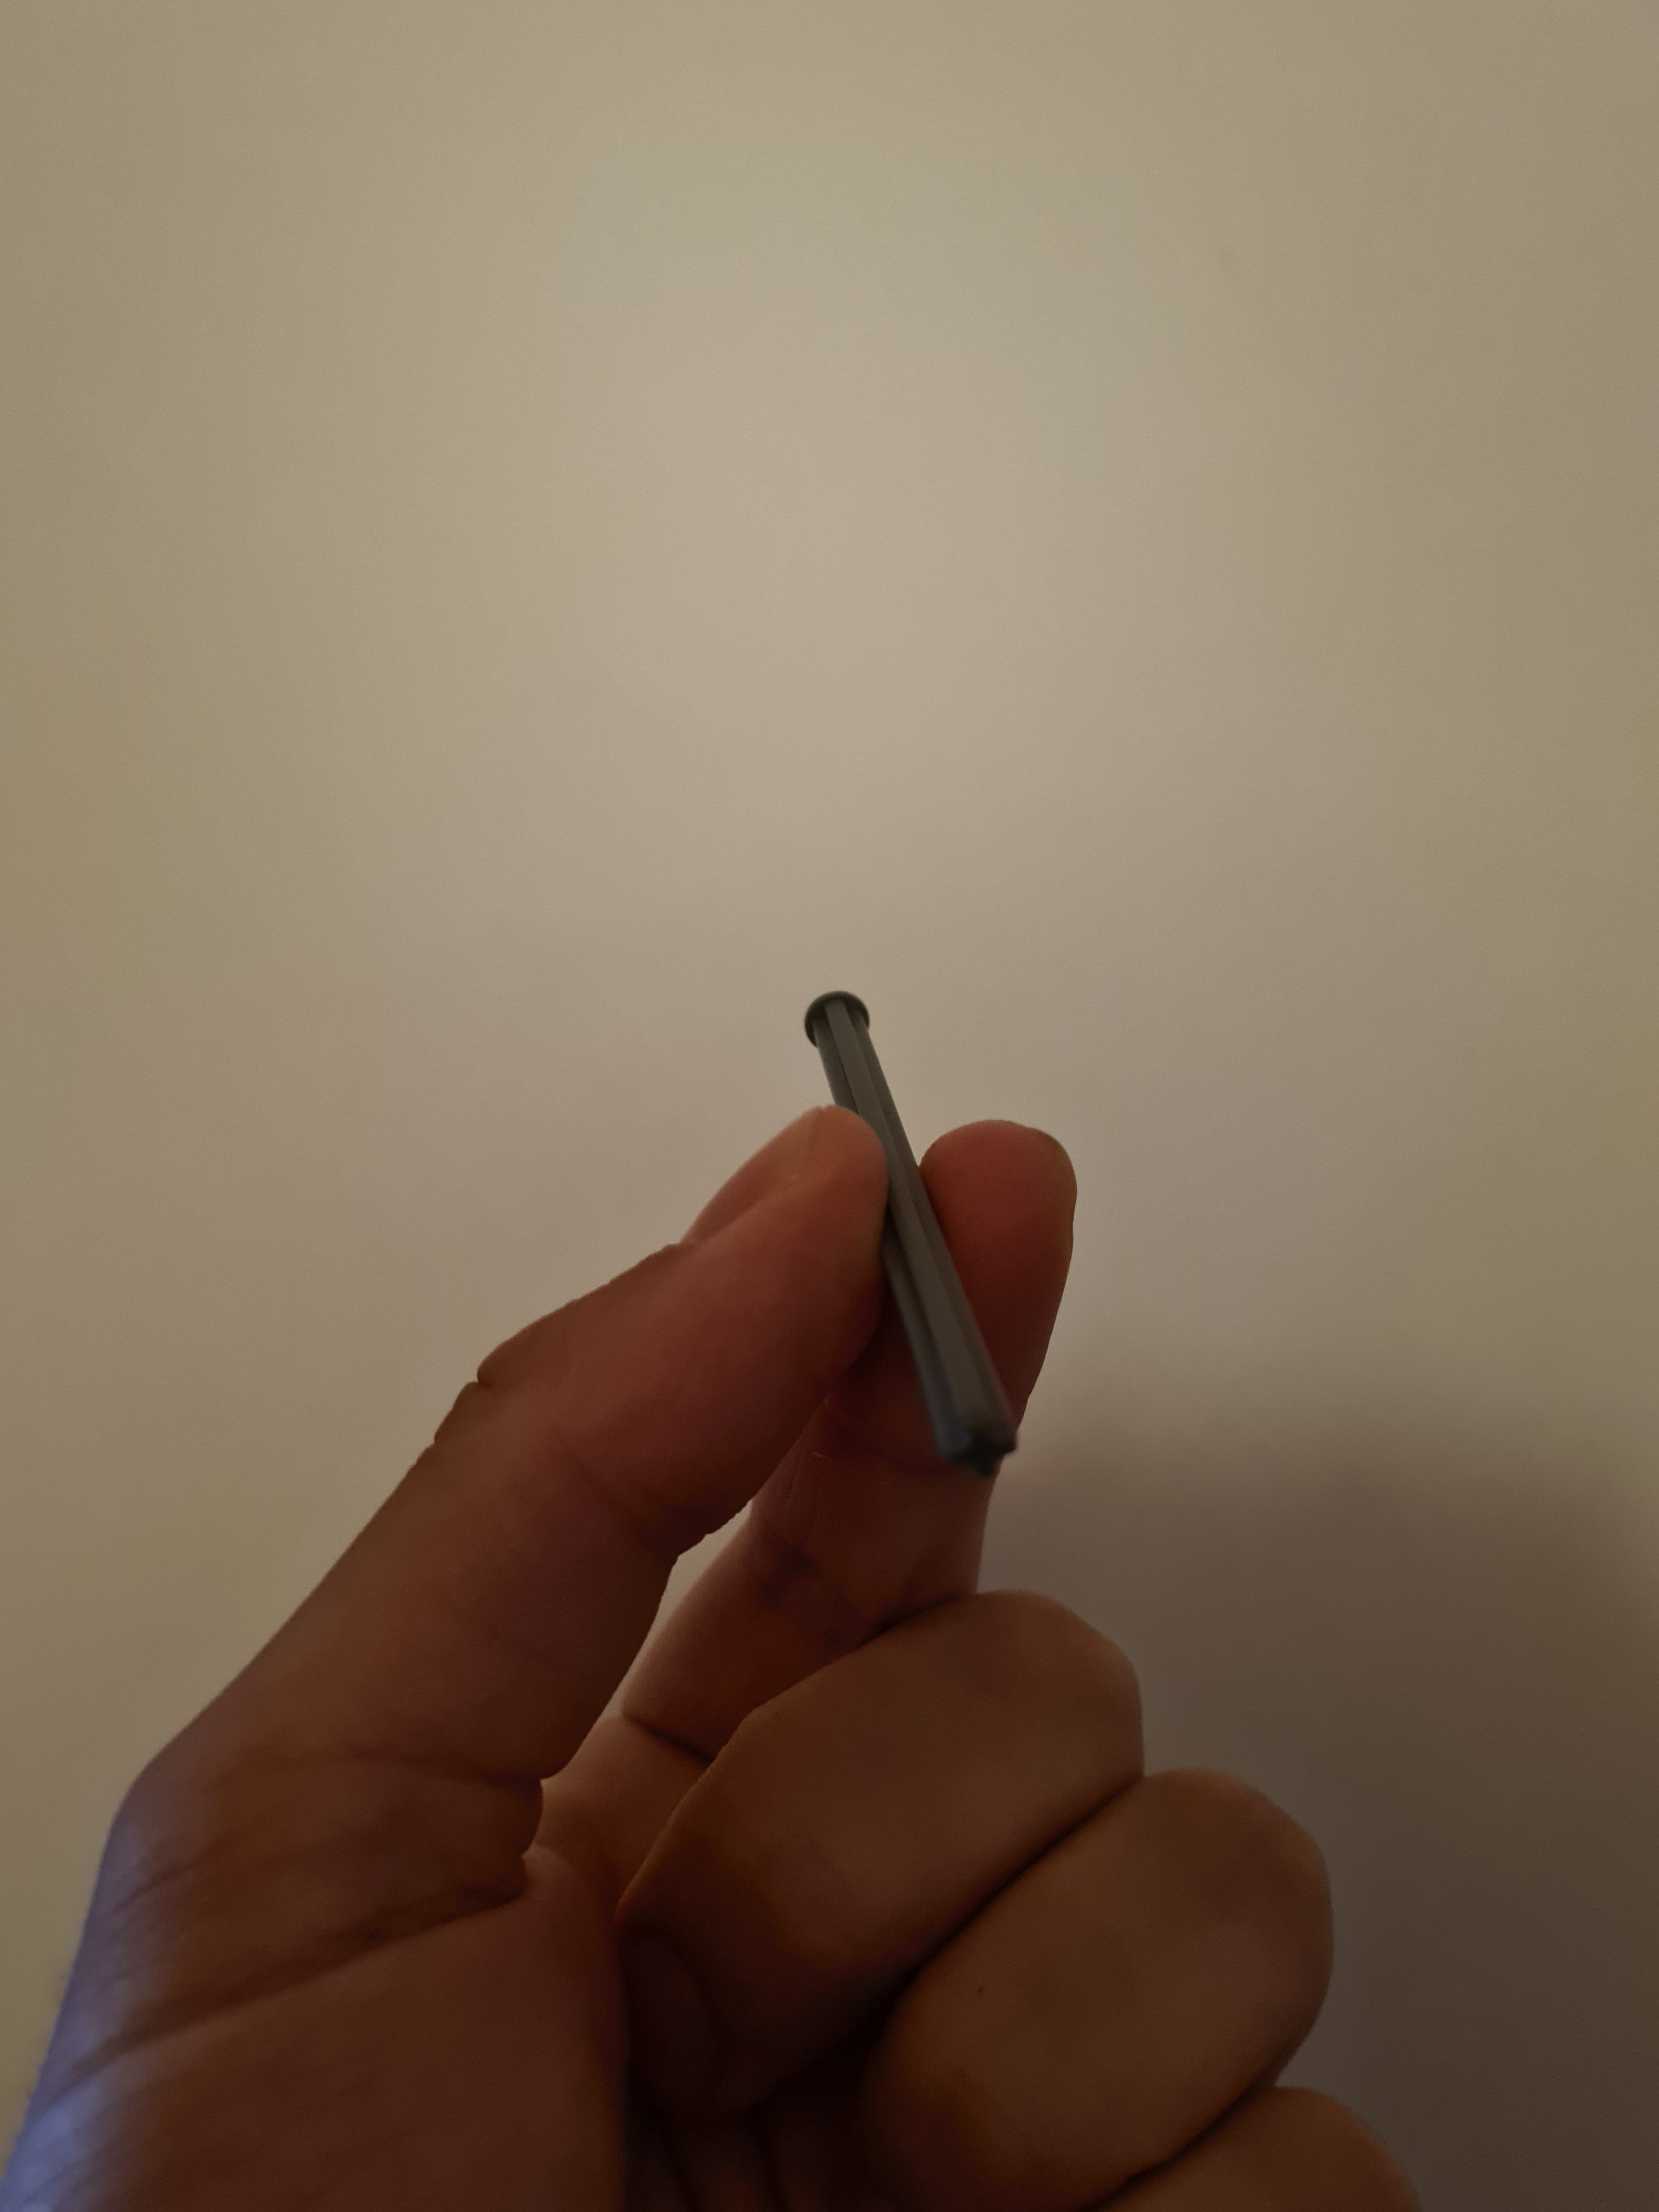Grau_lang: (784, 967, 1058, 1512)
